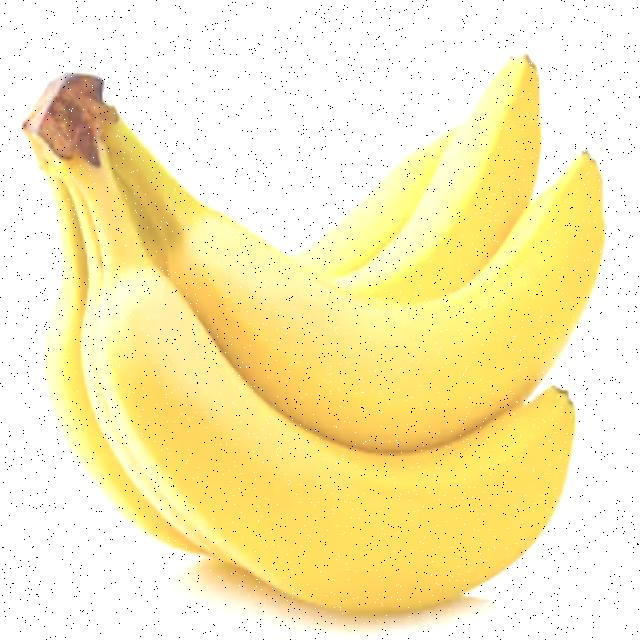god quality banana: (23, 58, 605, 612)
